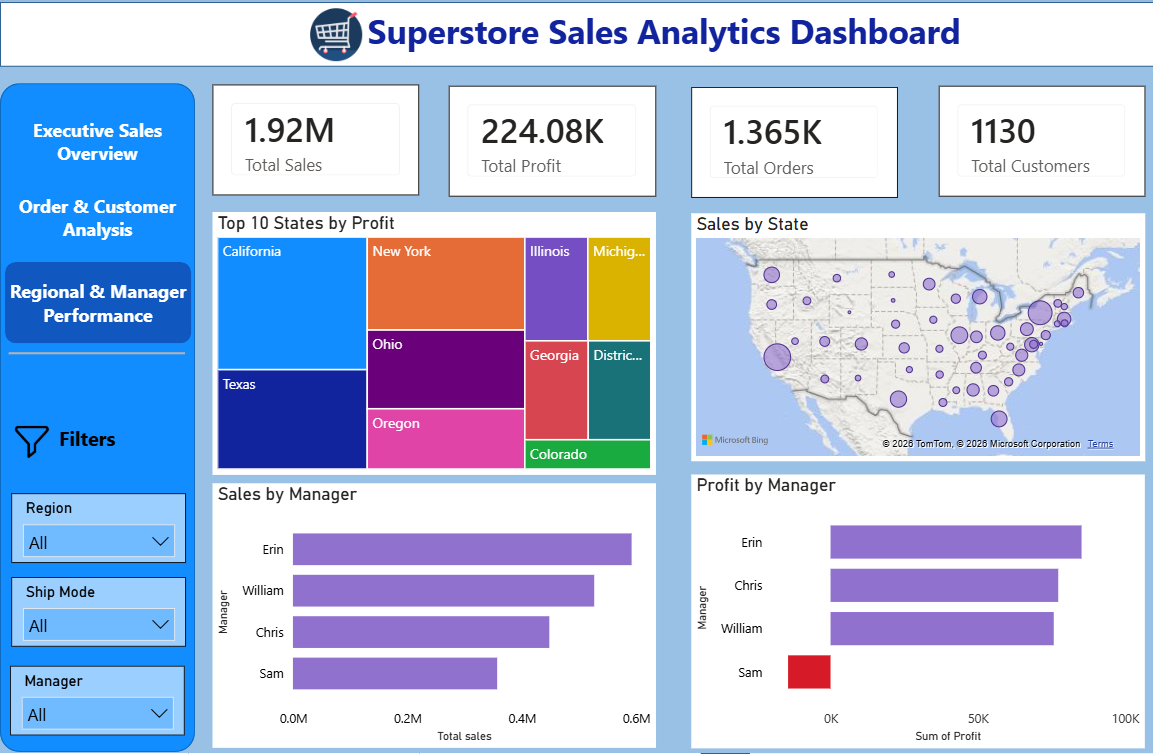

The page's visual inventory and layout, read from the dashboard file:
{"tool":"powerbi","page":{"name":"Regional & Manager Performance","canvas":[1100,720],"ordinal":2},"visuals":[{"type":"textbox","box":[0,4.8,1099,61.9],"z":0},{"type":"cardVisual","fields":{"Data":["Orders.Total sales"]},"box":[202.4,83.3,197,106],"z":1000},{"type":"cardVisual","fields":{"Data":["Orders.Total Profit"]},"box":[427.4,84.5,197.6,106],"z":2000},{"type":"cardVisual","fields":{"Data":["Orders.Total orders"]},"box":[658.3,85.7,196.4,106],"z":3000},{"type":"cardVisual","fields":{"Data":["Orders.Total customers"]},"box":[894.1,84.5,196.4,106],"z":4000},{"type":"shape","box":[0,82.1,185.7,636.9],"z":5000},{"type":"slicer","fields":{"Values":["Orders.Region"]},"box":[10.7,472.6,166.7,66.7],"z":6000},{"type":"slicer","fields":{"Values":["Orders.Ship Mode"]},"box":[10.7,552.4,166.7,66.7],"z":7000},{"type":"actionButton","title":"Executive Overview","box":[9.5,101.2,166.7,71.4],"z":8000},{"type":"actionButton","title":"Executive Overview","box":[9.5,172.6,166.7,73.8],"z":9000},{"type":"actionButton","title":"Executive Overview","box":[4.8,252.4,177.4,77.4],"z":10000},{"type":"treemap","title":"Top 10 States by Profit","fields":{"Group":["Orders.State or Province"],"Values":["Sum(Orders.Profit)"]},"box":[202.4,204.8,422.6,250],"z":11000},{"type":"map","title":"Sales by State","fields":{"Category":["Orders.State or Province"],"Size":["Sum(Orders.Sales)"]},"box":[658.3,206,432.1,235.7],"z":12000},{"type":"barChart","title":"Profit by Manager","fields":{"Category":["Users.Manager"],"Y":["Sum(Orders.Profit)"]},"box":[658.3,454.8,432.1,260.7],"z":13000},{"type":"barChart","title":"Sales by Manager","fields":{"Y":["Orders.Total sales"],"Category":["Users.Manager"]},"box":[202.4,463.1,422.6,252.4],"z":14000},{"type":"slicer","fields":{"Values":["Users.Manager"]},"box":[9.5,636.9,166.7,66.7],"z":15000},{"type":"image","box":[278.6,10.7,83.3,50],"z":16000},{"type":"shape","box":[8.3,319,167.9,40.5],"z":17000},{"type":"image","box":[9.5,403.6,41.7,38.1],"z":18000},{"type":"textbox","box":[51.2,402.4,71.4,39.3],"z":19000}]}

Visuals, with their boxes in screenshot pixels (x1, y1, x2, y2), scaled from the page's 1100x720 canvas onto the 1153x754 screenshot:
textbox: box(0, 5, 1152, 70)
cardVisual - Orders.Total sales: box(212, 87, 419, 198)
cardVisual - Orders.Total Profit: box(448, 88, 655, 199)
cardVisual - Orders.Total orders: box(690, 90, 896, 201)
cardVisual - Orders.Total customers: box(937, 88, 1143, 199)
shape: box(0, 86, 195, 753)
slicer - Orders.Region: box(11, 495, 186, 565)
slicer - Orders.Ship Mode: box(11, 578, 186, 648)
"Executive Overview" actionButton: box(10, 106, 185, 181)
"Executive Overview" actionButton: box(10, 181, 185, 258)
"Executive Overview" actionButton: box(5, 264, 191, 345)
"Top 10 States by Profit" treemap: box(212, 214, 655, 476)
"Sales by State" map: box(690, 216, 1143, 463)
"Profit by Manager" barChart: box(690, 476, 1143, 749)
"Sales by Manager" barChart: box(212, 485, 655, 749)
slicer - Users.Manager: box(10, 667, 185, 737)
image: box(292, 11, 379, 64)
shape: box(9, 334, 185, 376)
image: box(10, 423, 54, 463)
textbox: box(54, 421, 129, 463)
